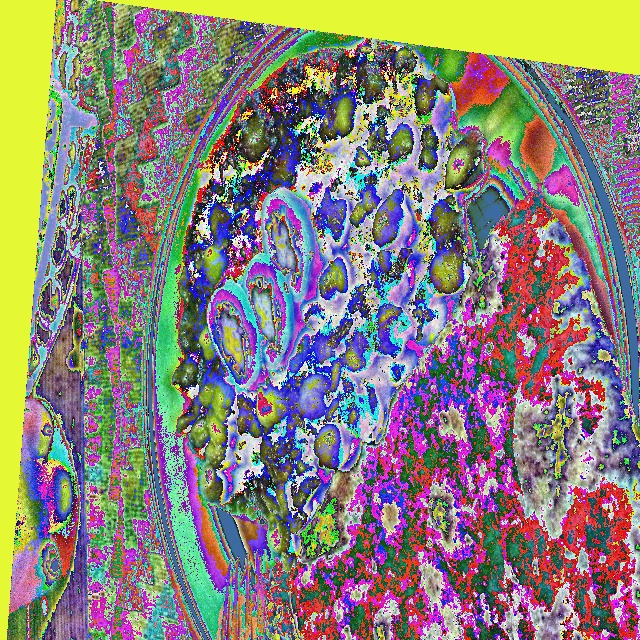background: (172, 38, 639, 639)
